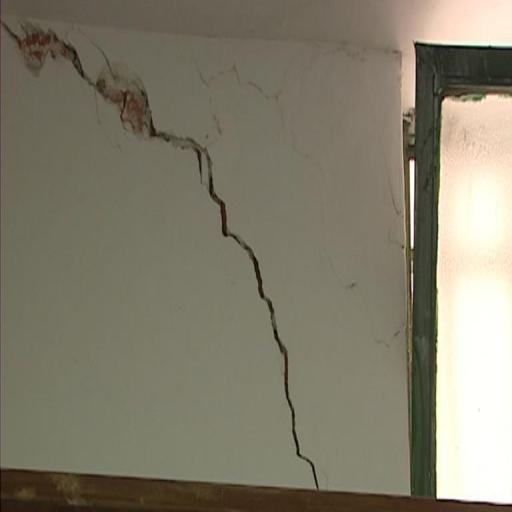spalling: (3, 19, 325, 486)
